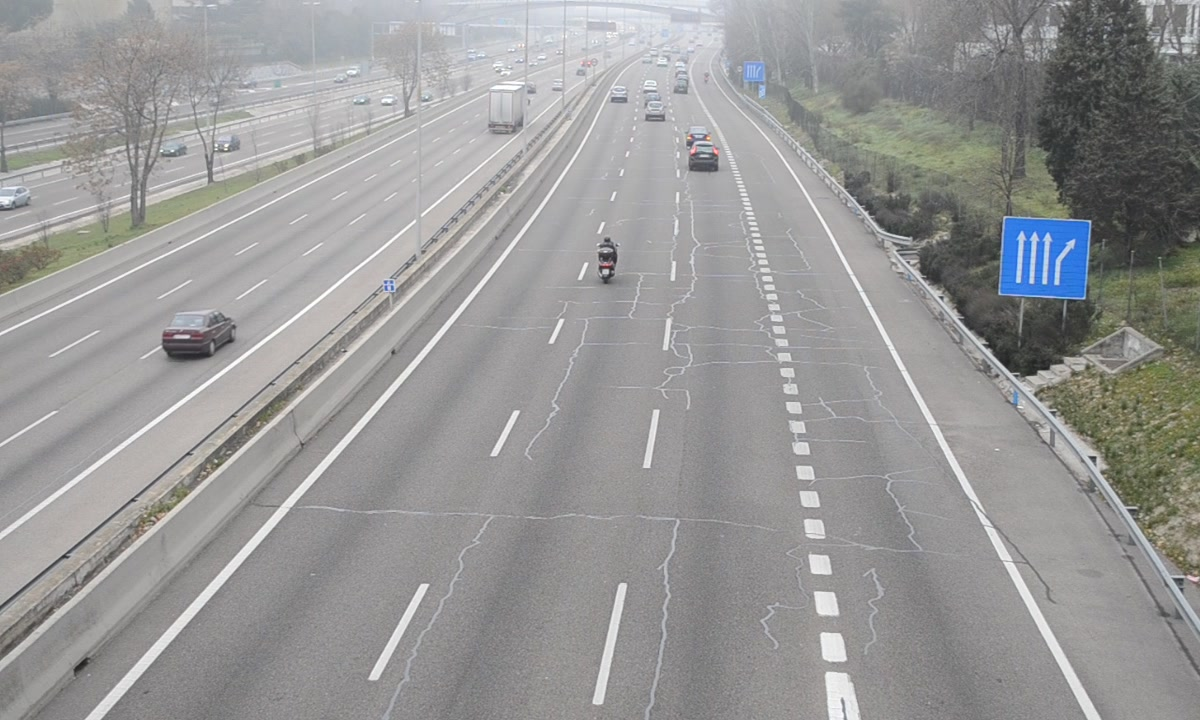car: (689, 141, 720, 170)
motorcycle: (595, 236, 618, 283)
